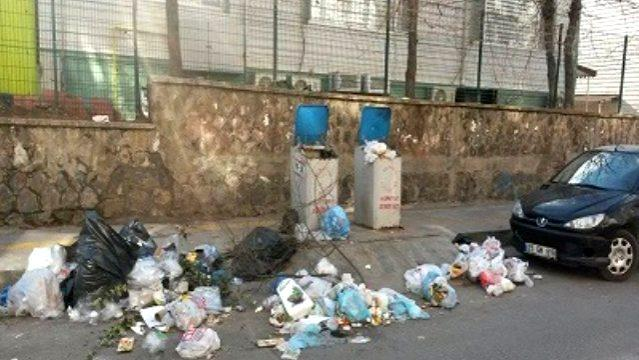Container: (287, 105, 352, 245), (352, 109, 405, 224), (290, 146, 345, 231), (355, 147, 407, 234)
Garbage: (20, 217, 225, 356), (4, 254, 69, 319), (449, 242, 524, 295), (394, 263, 472, 309), (264, 278, 303, 354), (300, 272, 343, 332), (160, 283, 211, 326), (382, 293, 430, 330), (174, 329, 233, 356), (353, 290, 386, 330), (283, 281, 317, 318), (480, 271, 515, 299), (318, 212, 352, 235), (296, 226, 335, 242), (361, 141, 392, 161)
